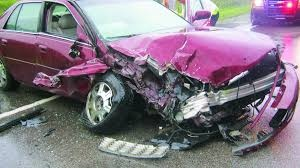Broken-glass: (146, 66, 199, 99)
Smashed: (104, 35, 294, 150)
